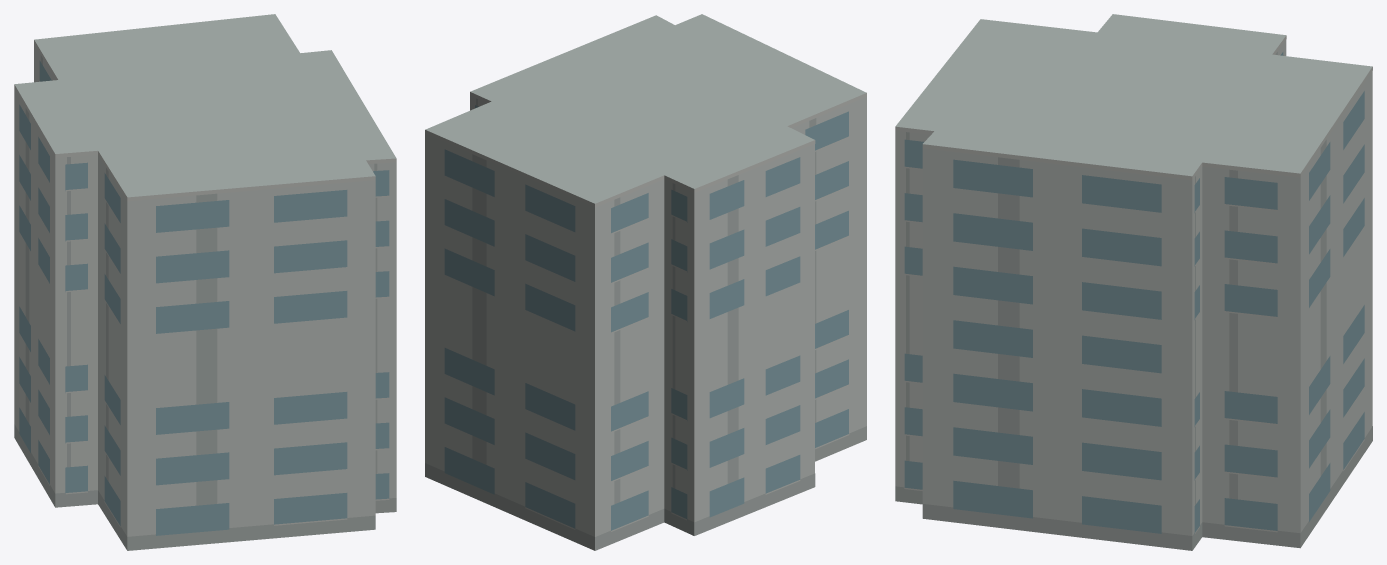
File: survey-upis-32859683.glb
3 views of the same model, side by side, from view 1: azimuth 30°, elevation 25°; view 2: azimuth 150°, elevation 25°; view 3: azimuth 270°, elevation 25° (orthographic). The views are drawn at different scales.
Visible parts, largest first — view 1: survey-upis-32859683.tmp; view 2: survey-upis-32859683.tmp; view 3: survey-upis-32859683.tmp.
Boxes of the visible parts, <box> form: survey-upis-32859683.tmp: <box>14,14,396,550</box>; survey-upis-32859683.tmp: <box>425,14,866,550</box>; survey-upis-32859683.tmp: <box>895,14,1372,550</box>.
Bounding box in the file's own units: 20.36 × 21.9 × 25.31.
